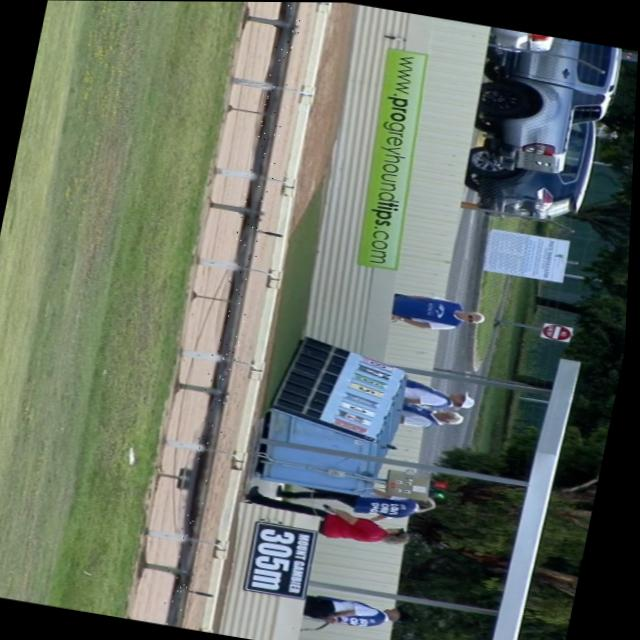rail: (169, 2, 298, 627)
